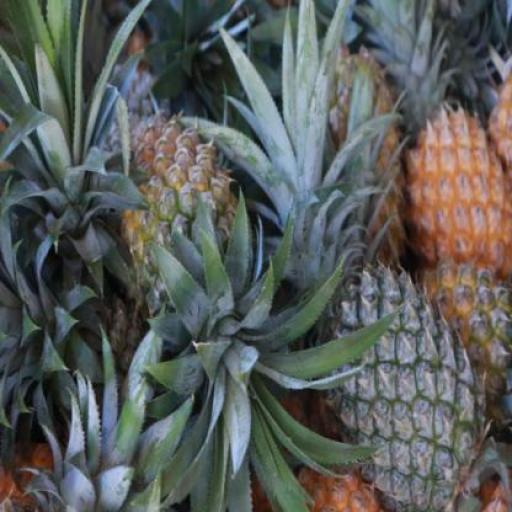------------------------------: (123, 112, 262, 322)
Pineapple - v8 v1: (405, 106, 511, 278)
